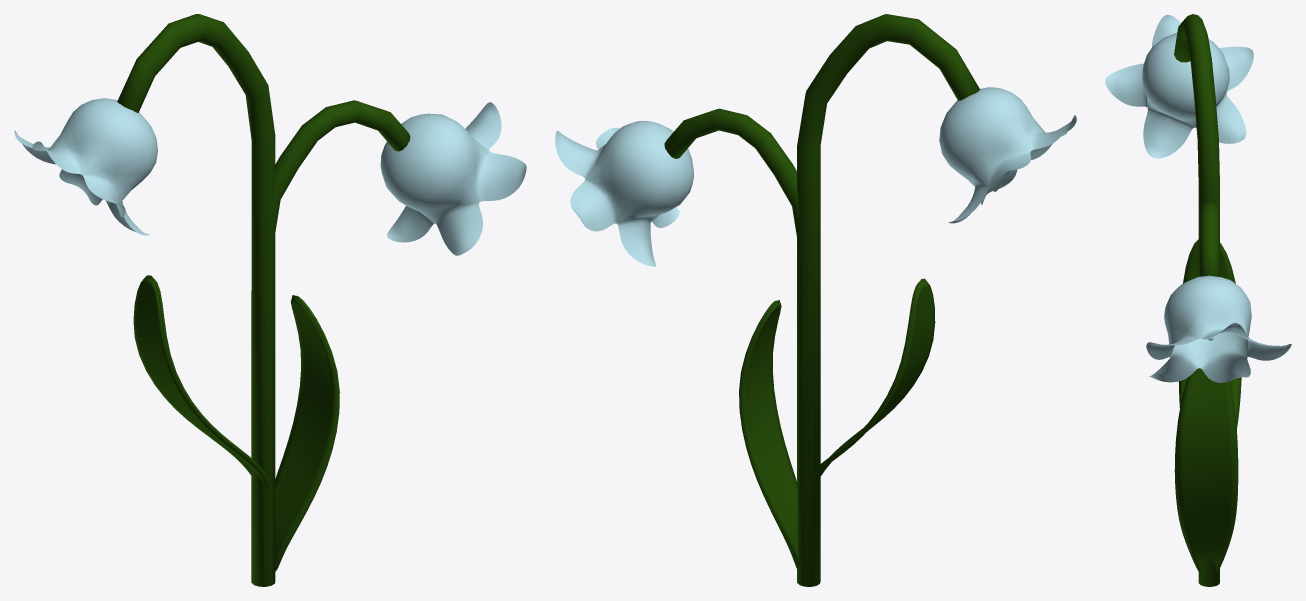
The model's file is lily_hojas.fbx.
The picture shows the model from 3 angles, left to right: view 1: azimuth 30°, elevation 25°; view 2: azimuth 150°, elevation 25°; view 3: azimuth 270°, elevation 25°; orthographic projection. The views are drawn at different scales.
Visible parts, largest first — view 1: Plane.001; view 2: Plane.001; view 3: Plane.001.
Part boxes in pixels (box(x1,y1,x2,y2)): Plane.001: box(14, 14, 526, 586); Plane.001: box(555, 14, 1076, 586); Plane.001: box(1105, 14, 1291, 586).
Size of the model in its own units: 329 by 377 by 122.
